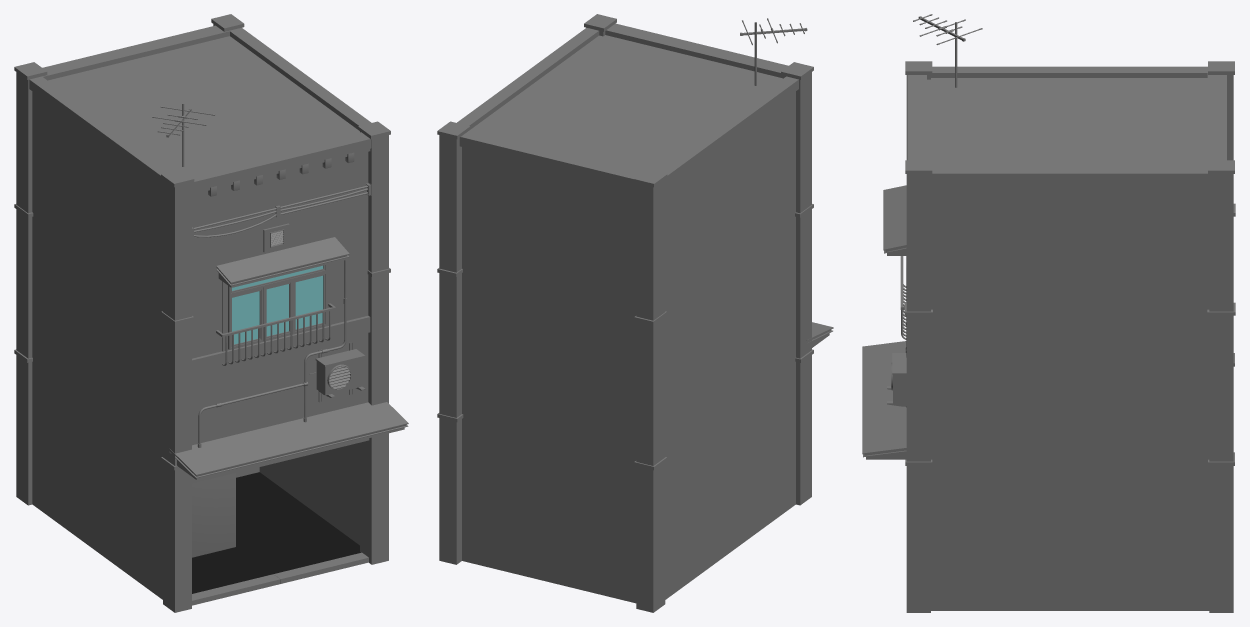
Rendered from SM_store_rowbuilding_02.fbx.
The picture shows the model from 3 angles, left to right: view 1: azimuth 30°, elevation 25°; view 2: azimuth 150°, elevation 25°; view 3: azimuth 270°, elevation 25°; orthographic projection. The views are drawn at different scales.
Parts seen in each view (by area): view 1: Box470; view 2: Box470; view 3: Box470.
Boxes of the visible parts, x1,y1,x2,y2 form: Box470: (14,14,408,612); Box470: (437,14,833,612); Box470: (862,14,1235,612).
Size of the model in its own units: 215 by 450 by 305.
